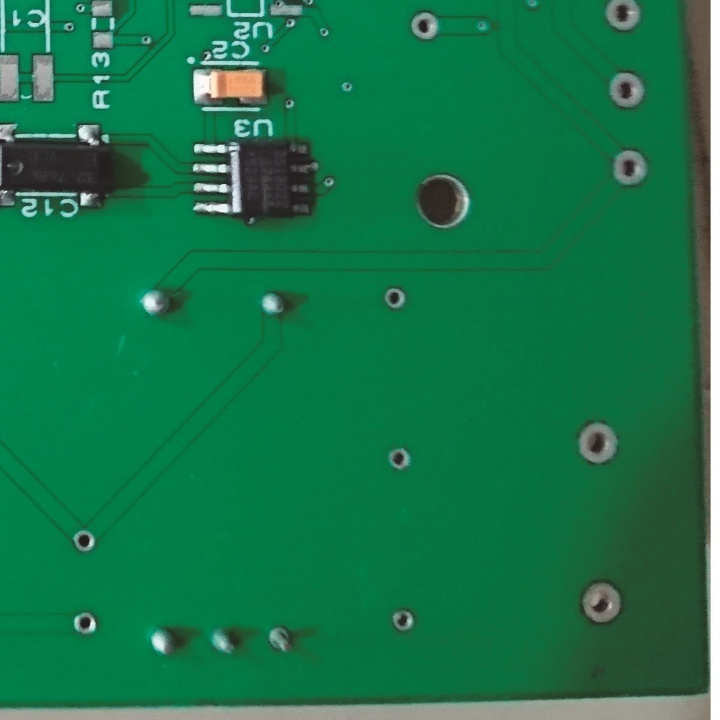F: (575, 415, 624, 465), (579, 576, 626, 627), (604, 69, 647, 112), (610, 146, 650, 189), (601, 1, 643, 38), (410, 9, 444, 41), (385, 444, 414, 475), (69, 526, 98, 556), (266, 624, 294, 655), (71, 611, 103, 638), (381, 283, 408, 313), (389, 606, 416, 633)
